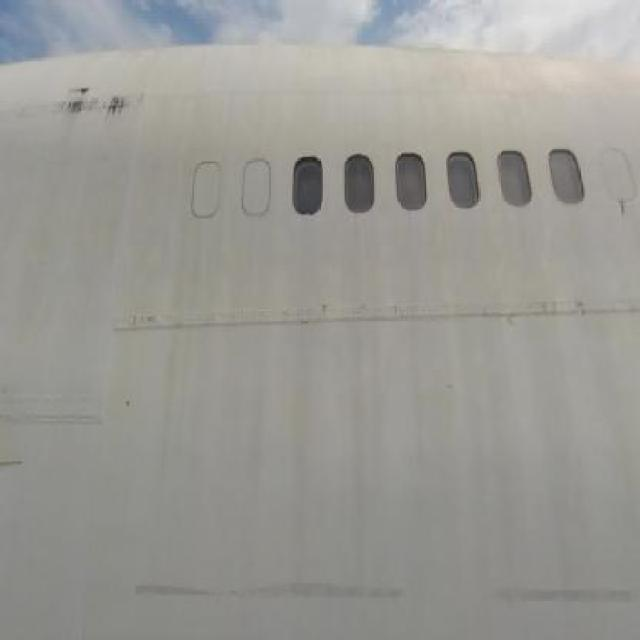Rust: (59, 72, 147, 134), (618, 198, 630, 222)
Scartch: (120, 554, 632, 612), (531, 284, 598, 342)
